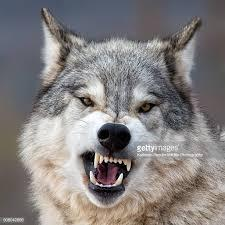Wolf: (14, 5, 225, 225)
